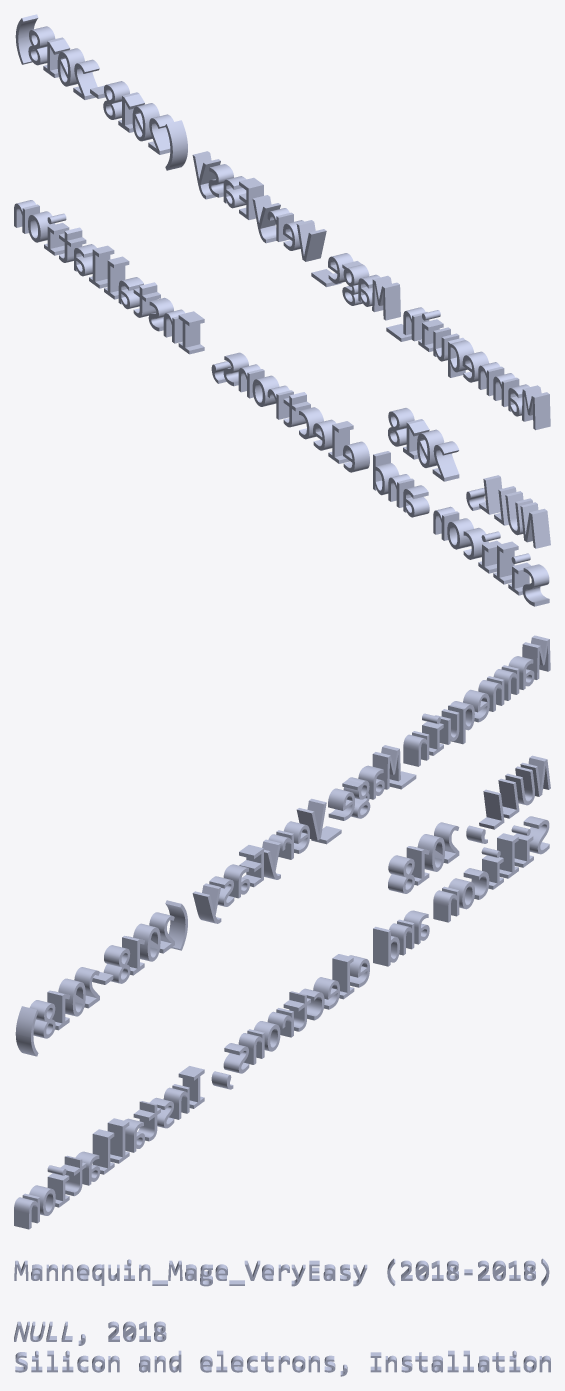
3 views of the same model, one above another, from view 1: azimuth 30°, elevation 25°; view 2: azimuth 150°, elevation 25°; view 3: azimuth 270°, elevation 25° (orthographic). The views are drawn at different scales.
Visible parts, largest first — view 1: Boss-Extrude1[36], Boss-Extrude1[12], Boss-Extrude1[1], Boss-Extrude1[17], Boss-Extrude1[25], Boss-Extrude1[67], Boss-Extrude1[20], Boss-Extrude1[45], Boss-Extrude1[41], Boss-Extrude1[56], Boss-Extrude1[14], Boss-Extrude1[24] (+12 smaller); view 2: Boss-Extrude1[44], Boss-Extrude1[12], Boss-Extrude1[56], Boss-Extrude1[1], Boss-Extrude1[35], Boss-Extrude1[29], Boss-Extrude1[24], Boss-Extrude1[53], Boss-Extrude1[10], Boss-Extrude1[79], Boss-Extrude1[17], Boss-Extrude1[25] (+13 smaller); view 3: Boss-Extrude1[14], Boss-Extrude1[27], Boss-Extrude1[32], Boss-Extrude1[42], Boss-Extrude1[44], Boss-Extrude1[29], Boss-Extrude1[34], Boss-Extrude1[45], Boss-Extrude1[21], Boss-Extrude1[56], Boss-Extrude1[6], Boss-Extrude1[36] (+27 smaller).
Part boxes in pixels (x1,y1,x2,y2): Boss-Extrude1[36]: (520, 502, 550, 548); Boss-Extrude1[12]: (372, 275, 400, 320); Boss-Extrude1[1]: (522, 385, 550, 430); Boss-Extrude1[17]: (296, 220, 326, 261); Boss-Extrude1[25]: (165, 120, 187, 170); Boss-Extrude1[67]: (178, 311, 204, 354); Boss-Extrude1[20]: (252, 195, 280, 243); Boss-Extrude1[45]: (522, 564, 549, 606); Boss-Extrude1[41]: (432, 441, 459, 481); Boss-Extrude1[56]: (373, 451, 399, 495); Boss-Extrude1[14]: (342, 261, 369, 305); Boss-Extrude1[24]: (192, 151, 220, 199); Boss-Extrude1[44]: (388, 855, 414, 893); Boss-Extrude1[12]: (372, 745, 400, 789); Boss-Extrude1[56]: (373, 926, 399, 966); Boss-Extrude1[1]: (522, 635, 550, 679); Boss-Extrude1[35]: (15, 1006, 38, 1056); Boss-Extrude1[29]: (103, 945, 130, 983); Boss-Extrude1[24]: (192, 883, 221, 923); Boss-Extrude1[53]: (433, 886, 459, 922); Boss-Extrude1[10]: (403, 731, 429, 766); Boss-Extrude1[79]: (14, 1193, 39, 1229); Boss-Extrude1[17]: (296, 798, 326, 840); Boss-Extrude1[25]: (165, 900, 187, 950); Boss-Extrude1[14]: (200, 1264, 212, 1286); Boss-Extrude1[27]: (415, 1260, 428, 1280); Boss-Extrude1[32]: (492, 1260, 505, 1280); Boss-Extrude1[42]: (123, 1321, 136, 1341); Boss-Extrude1[44]: (154, 1321, 166, 1341); Boss-Extrude1[29]: (446, 1260, 458, 1280); Boss-Extrude1[34]: (524, 1260, 535, 1280); Boss-Extrude1[45]: (15, 1352, 27, 1372); Boss-Extrude1[21]: (309, 1260, 319, 1280); Boss-Extrude1[56]: (169, 1350, 181, 1372); Boss-Extrude1[6]: (92, 1264, 104, 1285); Boss-Extrude1[36]: (14, 1321, 29, 1341).
Size of the model in its own units: 0.5 by 7 by 29.8.
